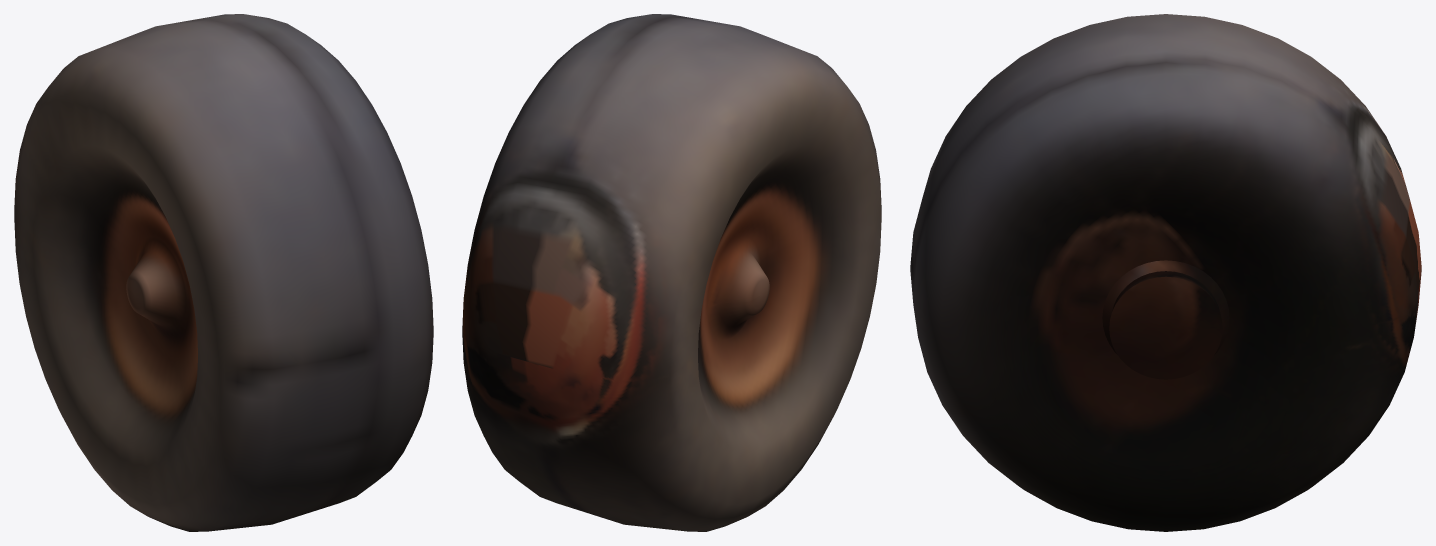
3 renders of one model, left to right at view 1: azimuth 30°, elevation 25°; view 2: azimuth 150°, elevation 25°; view 3: azimuth 270°, elevation 25°, orthographic.
Visible parts, largest first — view 1: wheel_FR; view 2: wheel_FR; view 3: wheel_FR.
Boxes of the visible parts, bbox=[...] form: wheel_FR: bbox=[14, 14, 433, 531]; wheel_FR: bbox=[462, 14, 881, 531]; wheel_FR: bbox=[910, 14, 1421, 531].
Size of the model in its own units: 0.146 by 0.2976 by 0.2976.
Materials: 1 (1 with a texture image).
